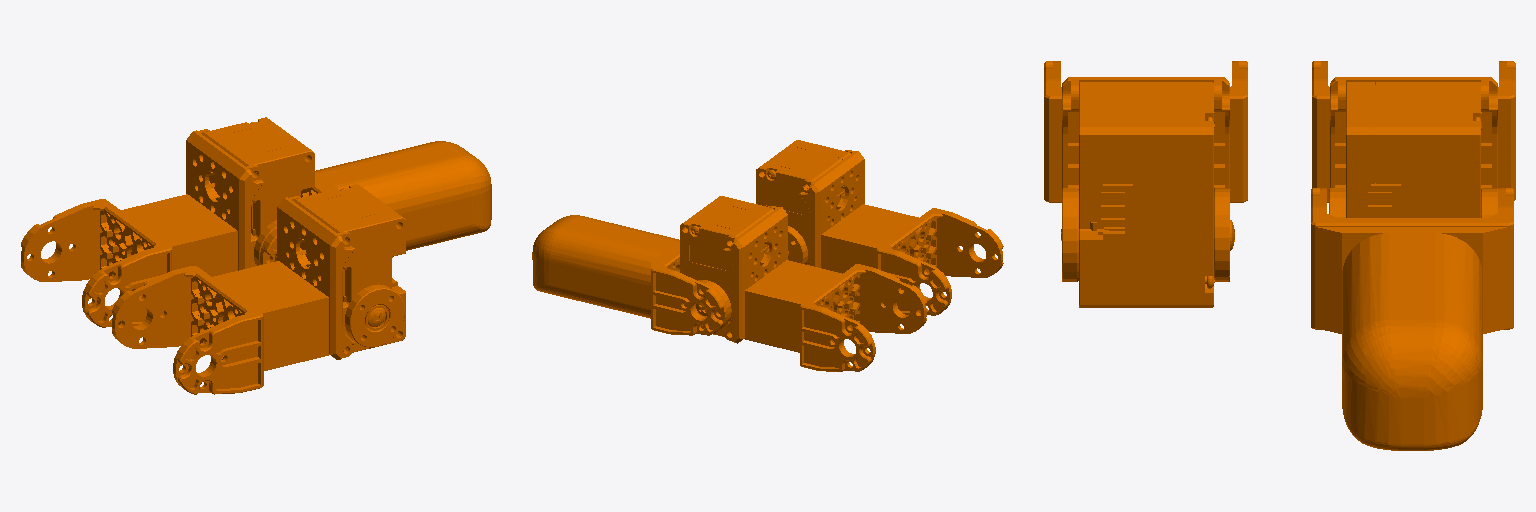
robot.urdf — onshape:
<robot name="onshape">
  <link name="palm_lower">
    <inertial>
      <origin xyz="0.0 0.0 0.0" rpy="0.0 -0.0 0.0"/>
      <mass value="0.237"/>
      <inertia ixx="0.000354094" ixy="-1.193e-06" ixz="-2.445e-06" iyy="0.000260915" iyz="-2.905e-06" izz="0.000529257"/>
    </inertial>
    <visual>
      <geometry>
        <mesh filename="../assets/leap/leap_hand/palm_lower.stl"/>
      </geometry>
      <origin xyz="-0.020095249652862544 0.025757756134899473 -0.034722403578460216" rpy="0.0 -0.0 0.0"/>
      <material name="palm_lower_material">
        <color rgba="0.6039215686274509 0.14901960784313725 0.14901960784313725 1.0"/>
      </material>
    </visual>
    <collision>
      <geometry>
        <mesh filename="../assets/leap/leap_hand/palm_lower.stl"/>
      </geometry>
      <origin xyz="-0.020095249652862544 0.025757756134899473 -0.034722403578460216" rpy="0.0 -0.0 0.0"/>
    </collision>
  </link>
  <link name="mcp_joint">
    <inertial>
      <origin xyz="0.0 0.0 0.0" rpy="0.0 -0.0 0.0"/>
      <mass value="0.044"/>
      <inertia ixx="1.1499e-05" ixy="3.049e-06" ixz="1.21e-07" iyy="7.796e-06" iyz="1.12e-07" izz="1.4759e-05"/>
    </inertial>
    <visual>
      <geometry>
        <mesh filename="../assets/leap/leap_hand/mcp_joint.stl"/>
      </geometry>
      <origin xyz="0.008406902261174496 0.0077662438597169954 0.014657354985032912" rpy="1.6375789613221e-15 -1.021047330249102e-30 1.7177968783327987e-31"/>
      <material name="mcp_joint_material">
        <color rgba="0.8666666666666667 0.8666666666666667 0.050980392156862744 1.0"/>
      </material>
    </visual>
    <collision>
      <geometry>
        <mesh filename="../assets/leap/leap_hand/mcp_joint.stl"/>
      </geometry>
      <origin xyz="0.008406902261174496 0.0077662438597169954 0.014657354985032912" rpy="1.6375789613221e-15 -1.021047330249102e-30 1.7177968783327987e-31"/>
    </collision>
  </link>
  <link name="pip">
    <inertial>
      <origin xyz="0.0 0.0 0.0" rpy="0.0 -0.0 0.0"/>
      <mass value="0.032"/>
      <inertia ixx="4.798e-06" ixy="1.2e-08" ixz="4e-09" iyy="2.862e-06" iyz="1.1e-08" izz="4.234e-06"/>
    </inertial>
    <visual>
      <geometry>
        <mesh filename="../assets/leap/leap_hand/pip.stl"/>
      </geometry>
      <origin xyz="0.009643363092271328 0.0002999999999999895 0.0007840340104173765" rpy="-1.5707963267948966 -1.5707963267948963 0.0"/>
      <material name="pip_material">
        <color rgba="0.7490196078431373 0.7490196078431373 0.7490196078431373 1.0"/>
      </material>
    </visual>
    <collision>
      <geometry>
        <mesh filename="../assets/leap/leap_hand/pip.stl"/>
      </geometry>
      <origin xyz="0.009643363092271328 0.0002999999999999895 0.0007840340104173765" rpy="-1.5707963267948966 -1.5707963267948963 0.0"/>
    </collision>
  </link>
  <link name="dip_long">
    <inertial>
      <origin xyz="0.0 0.0 0.0" rpy="0.0 -0.0 0.0"/>
      <mass value="0.037"/>
      <inertia ixx="5.542e-06" ixy="-6.07e-07" ixz="-1.7e-08" iyy="5.727e-06" iyz="-2.3e-08" izz="6.682e-06"/>
    </inertial>
    <visual>
      <geometry>
        <mesh filename="custom_models/dip_long.stl"/>
      </geometry>
      <origin xyz="0.021133352895225003 -0.00843211914670488 0.00978508816209524" rpy="-3.141592653589793 4.507511124216441e-32 4.439548105392361e-32"/>
      <material name="dip_material">
        <color rgba="0.878 0.467 0.0 1.0"/>
      </material>
    </visual>
    <collision>
      <geometry>
        <mesh filename="custom_models/dip_long.stl"/>
      </geometry>
      <origin xyz="0.021133352895225003 -0.00843211914670488 0.00978508816209524" rpy="-3.141592653589793 4.507511124216441e-32 4.439548105392361e-32"/>
    </collision>
  </link>
  <link name="fingertip_long">
    <inertial>
      <origin xyz="0.0 0.0 0.0" rpy="0.0 -0.0 0.0"/>
      <mass value="0.016"/>
      <inertia ixx="3.368e-06" ixy="1.15e-07" ixz="0.0" iyy="1.556e-06" iyz="0.0" izz="2.863e-06"/>
    </inertial>
    <visual>
      <geometry>
        <mesh filename="custom_models/fingertip_long.stl"/>
      </geometry>
      <origin xyz="0.013286424108533503 -0.006114238386541987 0.014499999999999498" rpy="3.141592653589793 1.1993117970061735e-33 4.439548105392361e-32"/>
      <material name="fingertip_material">
        <color rgba="0.878 0.467 0.0 1.0"/>
      </material>
    </visual>
    <collision>
      <geometry>
        <mesh filename="custom_models/fingertip_long.stl"/>
      </geometry>
      <origin xyz="0.013286424108533503 -0.006114238386541987 0.014499999999999498" rpy="3.141592653589793 1.1993117970061735e-33 4.439548105392361e-32"/>
    </collision>
  </link>
  <link name="pip_4">
    <inertial>
      <origin xyz="0.0 0.0 0.0" rpy="0.0 -0.0 0.0"/>
      <mass value="0.032"/>
      <inertia ixx="4.798e-06" ixy="1.2e-08" ixz="4e-09" iyy="2.862e-06" iyz="1.1e-08" izz="4.234e-06"/>
    </inertial>
    <visual>
      <geometry>
        <mesh filename="../assets/leap/leap_hand/pip.stl"/>
      </geometry>
      <origin xyz="-0.005356636907728671 0.0002999999999999999 0.0007840340104173782" rpy="-1.5707963267948966 -1.5707963267948963 0.0"/>
      <material name="pip_material">
        <color rgba="0.7490196078431373 0.7490196078431373 0.7490196078431373 1.0"/>
      </material>
    </visual>
    <collision>
      <geometry>
        <mesh filename="../assets/leap/leap_hand/pip.stl"/>
      </geometry>
      <origin xyz="-0.005356636907728671 0.0002999999999999999 0.0007840340104173782" rpy="-1.5707963267948966 -1.5707963267948963 0.0"/>
    </collision>
  </link>
  <link name="thumb_pip">
    <inertial>
      <origin xyz="0.0 0.0 0.0" rpy="0.0 -0.0 0.0"/>
      <mass value="0.003"/>
      <inertia ixx="5.93e-07" ixy="0.0" ixz="0.0" iyy="5.49e-07" iyz="0.0" izz="2.24e-07"/>
    </inertial>
    <visual>
      <geometry>
        <mesh filename="../assets/leap/leap_hand/thumb_pip.stl"/>
      </geometry>
      <origin xyz="0.011961920770611187 -5.30825383648903e-16 -0.0158526489566642" rpy="1.5707963267948966 1.6050198443300153e-46 -3.9204996250525193e-59"/>
      <material name="thumb_pip_material">
        <color rgba="0.8666666666666667 0.8666666666666667 0.050980392156862744 1.0"/>
      </material>
    </visual>
    <collision>
      <geometry>
        <mesh filename="../assets/leap/leap_hand/thumb_pip.stl"/>
      </geometry>
      <origin xyz="0.011961920770611187 -5.30825383648903e-16 -0.0158526489566642" rpy="1.5707963267948966 1.6050198443300153e-46 -3.9204996250525193e-59"/>
    </collision>
  </link>
  <link name="thumb_dip">
    <inertial>
      <origin xyz="0.0 0.0 0.0" rpy="0.0 -0.0 0.0"/>
      <mass value="0.038"/>
      <inertia ixx="8.474e-06" ixy="2.41e-07" ixz="2.6e-08" iyy="3.841e-06" iyz="2.5e-08" izz="7.679e-06"/>
    </inertial>
    <visual>
      <geometry>
        <mesh filename="../assets/leap/leap_hand/thumb_dip.stl"/>
      </geometry>
      <origin xyz="0.043968715707239175 0.0579529529737092 -0.008628676449369476" rpy="1.94289029309401e-16 3.27515792264422e-15 1.112375852965736e-46"/>
      <material name="thumb_dip_material">
        <color rgba="0.8666666666666667 0.8666666666666667 0.050980392156862744 1.0"/>
      </material>
    </visual>
    <collision>
      <geometry>
        <mesh filename="../assets/leap/leap_hand/thumb_dip.stl"/>
      </geometry>
      <origin xyz="0.043968715707239175 0.0579529529737092 -0.008628676449369476" rpy="1.94289029309401e-16 3.27515792264422e-15 1.112375852965736e-46"/>
    </collision>
  </link>
  <link name="thumb_fingertip">
    <inertial>
      <origin xyz="0.0 0.0 0.0" rpy="0.0 -0.0 0.0"/>
      <mass value="0.049"/>
      <inertia ixx="2.0372e-05" ixy="-4.89e-07" ixz="-3e-08" iyy="4.336e-06" iyz="-9.7e-08" izz="1.9845e-05"/>
    </inertial>
    <visual>
      <geometry>
        <mesh filename="../assets/leap/leap_hand/thumb_fingertip.stl"/>
      </geometry>
      <origin xyz="0.06255953846266739 0.07845968291139699 0.048992911807332215" rpy="4.379057701015637e-47 -3.33066907387547e-16 1.2042408677791935e-46"/>
      <material name="thumb_fingertip_material">
        <color rgba="0.6039215686274509 0.14901960784313725 0.14901960784313725 1.0"/>
      </material>
    </visual>
    <collision>
      <geometry>
        <mesh filename="../assets/leap/leap_hand/thumb_fingertip.stl"/>
      </geometry>
      <origin xyz="0.06255953846266739 0.07845968291139699 0.048992911807332215" rpy="4.379057701015637e-47 -3.33066907387547e-16 1.2042408677791935e-46"/>
    </collision>
  </link>
  <link name="mcp_joint_2">
    <inertial>
      <origin xyz="0.0 0.0 0.0" rpy="0.0 -0.0 0.0"/>
      <mass value="0.044"/>
      <inertia ixx="1.1499e-05" ixy="3.049e-06" ixz="1.21e-07" iyy="7.796e-06" iyz="1.12e-07" izz="1.4759e-05"/>
    </inertial>
    <visual>
      <geometry>
        <mesh filename="../assets/leap/leap_hand/mcp_joint.stl"/>
      </geometry>
      <origin xyz="0.008406902261174496 0.0077662438597169954 0.014657354985032914" rpy="1.6375789613221e-15 -1.0076465469034e-30 2.1209300131419907e-61"/>
      <material name="mcp_joint_material">
        <color rgba="0.8666666666666667 0.8666666666666667 0.050980392156862744 1.0"/>
      </material>
    </visual>
    <collision>
      <geometry>
        <mesh filename="../assets/leap/leap_hand/mcp_joint.stl"/>
      </geometry>
      <origin xyz="0.008406902261174496 0.0077662438597169954 0.014657354985032914" rpy="1.6375789613221e-15 -1.0076465469034e-30 2.1209300131419907e-61"/>
    </collision>
  </link>
  <link name="pip_2">
    <inertial>
      <origin xyz="0.0 0.0 0.0" rpy="0.0 -0.0 0.0"/>
      <mass value="0.032"/>
      <inertia ixx="4.798e-06" ixy="1.2e-08" ixz="4e-09" iyy="2.862e-06" iyz="1.1e-08" izz="4.234e-06"/>
    </inertial>
    <visual>
      <geometry>
        <mesh filename="../assets/leap/leap_hand/pip.stl"/>
      </geometry>
      <origin xyz="0.009643363092271328 0.0002999999999999947 0.0007840340104173765" rpy="-1.5707963267948966 -1.5707963267948963 0.0"/>
      <material name="pip_material">
        <color rgba="0.7490196078431373 0.7490196078431373 0.7490196078431373 1.0"/>
      </material>
    </visual>
    <collision>
      <geometry>
        <mesh filename="../assets/leap/leap_hand/pip.stl"/>
      </geometry>
      <origin xyz="0.009643363092271328 0.0002999999999999947 0.0007840340104173765" rpy="-1.5707963267948966 -1.5707963267948963 0.0"/>
    </collision>
  </link>
  <link name="dip_2_long">
    <inertial>
      <origin xyz="0.0 0.0 0.0" rpy="0.0 -0.0 0.0"/>
      <mass value="0.037"/>
      <inertia ixx="5.542e-06" ixy="-6.07e-07" ixz="-1.7e-08" iyy="5.727e-06" iyz="-2.3e-08" izz="6.682e-06"/>
    </inertial>
    <visual>
      <geometry>
        <mesh filename="custom_models/dip_long.stl"/>
      </geometry>
      <origin xyz="0.021133352895225003 -0.008432119146704865 0.009785088162095237" rpy="-3.141592653589793 2.1146933785271956e-32 1.4408183216511869e-31"/>
      <material name="dip_material">
        <color rgba="0.878 0.467 0.0 1.0"/>
      </material>
    </visual>
    <collision>
      <geometry>
        <mesh filename="custom_models/dip_long.stl"/>
      </geometry>
      <origin xyz="0.021133352895225003 -0.008432119146704865 0.009785088162095237" rpy="-3.141592653589793 2.1146933785271956e-32 1.4408183216511869e-31"/>
    </collision>
  </link>
  <link name="fingertip_2">
    <inertial>
      <origin xyz="0.0 0.0 0.0" rpy="0.0 -0.0 0.0"/>
      <mass value="0.016"/>
      <inertia ixx="3.368e-06" ixy="1.15e-07" ixz="0.0" iyy="1.556e-06" iyz="0.0" izz="2.863e-06"/>
    </inertial>
    <visual>
      <geometry>
        <mesh filename="../assets/leap/leap_hand/fingertip.stl"/>
      </geometry>
      <origin xyz="0.013286424108533496 -0.006114238386542001 0.014499999999999496" rpy="3.141592653589793 -4.317959788283594e-33 1.4408183216511869e-31"/>
      <material name="fingertip_material">
        <color rgba="0.8666666666666667 0.8666666666666667 0.050980392156862744 1.0"/>
      </material>
    </visual>
    <collision>
      <geometry>
        <mesh filename="../assets/leap/leap_hand/fingertip.stl"/>
      </geometry>
      <origin xyz="0.013286424108533496 -0.006114238386542001 0.014499999999999496" rpy="3.141592653589793 -4.317959788283594e-33 1.4408183216511869e-31"/>
    </collision>
  </link>
  <link name="mcp_joint_3">
    <inertial>
      <origin xyz="0.0 0.0 0.0" rpy="0.0 -0.0 0.0"/>
      <mass value="0.044"/>
      <inertia ixx="1.1499e-05" ixy="3.049e-06" ixz="1.21e-07" iyy="7.796e-06" iyz="1.12e-07" izz="1.4759e-05"/>
    </inertial>
    <visual>
      <geometry>
        <mesh filename="../assets/leap/leap_hand/mcp_joint.stl"/>
      </geometry>
      <origin xyz="0.0084069022611745 0.007766243859716996 0.014657354985032914" rpy="1.6375789613221e-15 -1.0059504988632627e-30 5.729641584552035e-32"/>
      <material name="mcp_joint_material">
        <color rgba="0.8666666666666667 0.8666666666666667 0.050980392156862744 1.0"/>
      </material>
    </visual>
    <collision>
      <geometry>
        <mesh filename="../assets/leap/leap_hand/mcp_joint.stl"/>
      </geometry>
      <origin xyz="0.0084069022611745 0.007766243859716996 0.014657354985032914" rpy="1.6375789613221e-15 -1.0059504988632627e-30 5.729641584552035e-32"/>
    </collision>
  </link>
  <link name="pip_3">
    <inertial>
      <origin xyz="0.0 0.0 0.0" rpy="0.0 -0.0 0.0"/>
      <mass value="0.032"/>
      <inertia ixx="4.798e-06" ixy="1.2e-08" ixz="4e-09" iyy="2.862e-06" iyz="1.1e-08" izz="4.234e-06"/>
    </inertial>
    <visual>
      <geometry>
        <mesh filename="../assets/leap/leap_hand/pip.stl"/>
      </geometry>
      <origin xyz="0.009643363092271331 0.00029999999999998084 0.0007840340104173765" rpy="-1.5707963267948966 -1.5707963267948963 0.0"/>
      <material name="pip_material">
        <color rgba="0.7490196078431373 0.7490196078431373 0.7490196078431373 1.0"/>
      </material>
    </visual>
    <collision>
      <geometry>
        <mesh filename="../assets/leap/leap_hand/pip.stl"/>
      </geometry>
      <origin xyz="0.009643363092271331 0.00029999999999998084 0.0007840340104173765" rpy="-1.5707963267948966 -1.5707963267948963 0.0"/>
    </collision>
  </link>
  <link name="dip_3">
    <inertial>
      <origin xyz="0.0 0.0 0.0" rpy="0.0 -0.0 0.0"/>
      <mass value="0.037"/>
      <inertia ixx="5.542e-06" ixy="-6.07e-07" ixz="-1.7e-08" iyy="5.727e-06" iyz="-2.3e-08" izz="6.682e-06"/>
    </inertial>
    <visual>
      <geometry>
        <mesh filename="../assets/leap/leap_hand/dip.stl"/>
      </geometry>
      <origin xyz="0.021133352895225006 -0.008432119146704865 0.009785088162095237" rpy="-3.141592653589793 -1.4095651113919093e-33 1.5565411607615035e-32"/>
      <material name="dip_material">
        <color rgba="0.8666666666666667 0.8666666666666667 0.050980392156862744 1.0"/>
      </material>
    </visual>
    <collision>
      <geometry>
        <mesh filename="../assets/leap/leap_hand/dip.stl"/>
      </geometry>
      <origin xyz="0.021133352895225006 -0.008432119146704865 0.009785088162095237" rpy="-3.141592653589793 -1.4095651113919093e-33 1.5565411607615035e-32"/>
    </collision>
  </link>
  <link name="fingertip_3">
    <inertial>
      <origin xyz="0.0 0.0 0.0" rpy="0.0 -0.0 0.0"/>
      <mass value="0.016"/>
      <inertia ixx="3.368e-06" ixy="1.15e-07" ixz="0.0" iyy="1.556e-06" iyz="0.0" izz="2.863e-06"/>
    </inertial>
    <visual>
      <geometry>
        <mesh filename="../assets/leap/leap_hand/fingertip.stl"/>
      </geometry>
      <origin xyz="0.013286424108533501 -0.006114238386541987 0.0144999999999995" rpy="3.141592653589793 8.61707169505754e-33 1.5565411607615035e-32"/>
      <material name="fingertip_material">
        <color rgba="0.8666666666666667 0.8666666666666667 0.050980392156862744 1.0"/>
      </material>
    </visual>
    <collision>
      <geometry>
        <mesh filename="../assets/leap/leap_hand/fingertip.stl"/>
      </geometry>
      <origin xyz="0.013286424108533501 -0.006114238386541987 0.0144999999999995" rpy="3.141592653589793 8.61707169505754e-33 1.5565411607615035e-32"/>
    </collision>
  </link>
  <joint name="1" type="revolute">
    <parent link="palm_lower"/>
    <child link="mcp_joint"/>
    <origin xyz="-0.007095249652862546 0.023057756134899472 -0.01872240357846022" rpy="1.570796326794895 1.5707963267948946 0.0"/>
    <axis xyz="0.0 0.0 -1.0"/>
    <limit effort="0.95" velocity="8.48" lower="-0.314" upper="2.23"/>
  </joint>
  <joint name="0" type="revolute">
    <parent link="mcp_joint"/>
    <child link="pip"/>
    <origin xyz="-0.012200000000000008 0.038099999999999995 0.0145" rpy="-1.5707963267948966 -1.0065212660796337e-15 1.5707963267948943"/>
    <axis xyz="0.0 0.0 -1.0"/>
    <limit effort="0.95" velocity="8.48" lower="-1.047" upper="1.047"/>
  </joint>
  <joint name="2" type="revolute">
    <parent link="pip"/>
    <child link="dip_long"/>
    <origin xyz="0.014999999999999968 0.014299999999999905 -0.012999999999999824" rpy="1.570796326794896 -1.5707963267948963 0.0"/>
    <axis xyz="0.0 0.0 -1.0"/>
    <limit effort="0.95" velocity="8.48" lower="-0.506" upper="1.885"/>
  </joint>
  <joint name="3" type="revolute">
    <parent link="dip_long"/>
    <child link="fingertip_long"/>
    <origin xyz="-4.0880582495572692636e-09 -0.051100004210367367397 0.00020000000000007858714" rpy="4.5935029425113685e-17 -2.8730071914463795e-16 4.439548105392361e-32"/>
    <axis xyz="0.0 0.0 -1.0"/>
    <limit effort="0.95" velocity="8.48" lower="-0.366" upper="2.042"/>
  </joint>
  <joint name="12" type="revolute">
    <parent link="palm_lower"/>
    <child link="pip_4"/>
    <origin xyz="-0.06939524965286253 -0.0012422438651005258 -0.021622403578460216" rpy="-8.238176646493942e-17 1.5707963267948957 0.0"/>
    <axis xyz="0.0 0.0 -1.0"/>
    <limit effort="0.95" velocity="8.48" lower="-0.349" upper="2.094"/>
  </joint>
  <joint name="13" type="revolute">
    <parent link="pip_4"/>
    <child link="thumb_pip"/>
    <origin xyz="-2.7755575615628914e-17 0.014300000000000005 -0.013000000000000012" rpy="1.570796326794896 -1.5707963267948963 0.0"/>
    <axis xyz="0.0 0.0 -1.0"/>
    <limit effort="0.95" velocity="8.48" lower="-0.47" upper="2.443"/>
  </joint>
  <joint name="14" type="revolute">
    <parent link="thumb_pip"/>
    <child link="thumb_dip"/>
    <origin xyz="0.0 0.014499999999999966 -0.017000000000000053" rpy="-1.5707963267948966 1.6050198443300131e-46 -1.9721522630516625e-31"/>
    <axis xyz="0.0 0.0 -1.0"/>
    <limit effort="0.95" velocity="8.48" lower="-1.2" upper="1.9"/>
  </joint>
  <joint name="15" type="revolute">
    <parent link="thumb_dip"/>
    <child link="thumb_fingertip"/>
    <origin xyz="-1.249000902703301e-16 0.046599999999999864 0.0001999999999999771" rpy="1.506395849149178e-44 5.423418723393526e-31 3.141592653589793"/>
    <axis xyz="0.0 0.0 -1.0"/>
    <limit effort="0.95" velocity="8.48" lower="-1.34" upper="1.88"/>
  </joint>
  <joint name="5" type="revolute">
    <parent link="palm_lower"/>
    <child link="mcp_joint_2"/>
    <origin xyz="-0.007095249652862546 -0.022392243865100525 -0.01872240357846022" rpy="1.570796326794895 1.5707963267948946 0.0"/>
    <axis xyz="0.0 0.0 -1.0"/>
    <limit effort="0.95" velocity="8.48" lower="-0.314" upper="2.23"/>
  </joint>
  <joint name="4" type="revolute">
    <parent link="mcp_joint_2"/>
    <child link="pip_2"/>
    <origin xyz="-0.012200000000000008 0.038099999999999995 0.0145" rpy="-1.5707963267948966 -1.0065212660796337e-15 1.5707963267948943"/>
    <axis xyz="0.0 0.0 -1.0"/>
    <limit effort="0.95" velocity="8.48" lower="-1.047" upper="1.047"/>
  </joint>
  <joint name="6" type="revolute">
    <parent link="pip_2"/>
    <child link="dip_2_long"/>
    <origin xyz="0.014999999999999968 0.014299999999999905 -0.012999999999999824" rpy="1.570796326794896 -1.5707963267948963 0.0"/>
    <axis xyz="0.0 0.0 -1.0"/>
    <limit effort="0.95" velocity="8.48" lower="-0.506" upper="1.885"/>
  </joint>
  <joint name="7" type="revolute">
    <parent link="dip_2_long"/>
    <child link="fingertip_2"/>
    <origin xyz="-4.0880582495572692636e-09 -0.051100004210367367397 0.00020000000000007858714" rpy="4.5935029425113685e-17 -2.8730071914463795e-16 4.439548105392361e-32"/>
    <axis xyz="0.0 0.0 -1.0"/>
    <limit effort="0.95" velocity="8.48" lower="-0.366" upper="2.042"/>
  </joint>
  <joint name="9" type="revolute">
    <parent link="palm_lower"/>
    <child link="mcp_joint_3"/>
    <origin xyz="-0.007095249652862546 -0.06784224386510052 -0.01872240357846022" rpy="1.570796326794895 1.5707963267948946 0.0"/>
    <axis xyz="0.0 0.0 -1.0"/>
    <limit effort="0.95" velocity="8.48" lower="-0.314" upper="2.23"/>
  </joint>
  <joint name="8" type="revolute">
    <parent link="mcp_joint_3"/>
    <child link="pip_3"/>
    <origin xyz="-0.012200000000000008 0.038099999999999995 0.0145" rpy="-1.5707963267948966 -1.0065212660796337e-15 1.5707963267948943"/>
    <axis xyz="0.0 0.0 -1.0"/>
    <limit effort="0.95" velocity="8.48" lower="-1.047" upper="1.047"/>
  </joint>
  <joint name="10" type="revolute">
    <parent link="pip_3"/>
    <child link="dip_3"/>
    <origin xyz="0.014999999999999968 0.014299999999999905 -0.012999999999999824" rpy="1.570796326794896 -1.5707963267948963 0.0"/>
    <axis xyz="0.0 0.0 -1.0"/>
    <limit effort="0.95" velocity="8.48" lower="-0.506" upper="1.885"/>
  </joint>
  <joint name="11" type="revolute">
    <parent link="dip_3"/>
    <child link="fingertip_3"/>
    <origin xyz="-4.088058249557269e-09 -0.03610000421036737 0.0002000000000000786" rpy="4.5935029425113685e-17 -2.8730071914463795e-16 4.439548105392361e-32"/>
    <axis xyz="0.0 0.0 -1.0"/>
    <limit effort="0.95" velocity="8.48" lower="-0.366" upper="2.042"/>
  </joint>
</robot>

--- What the picture shows (computed from the rendered views, not written in the file) ---
The picture shows the robot from 3 angles, left to right: view 1: azimuth 30°, elevation 25°; view 2: azimuth 150°, elevation 25°; view 3: azimuth 270°, elevation 25°; orthographic projection.
Model onshape with 17 links and 16 joints (16 revolute), rooted at palm_lower, posed all joints at 0.
Visible links, largest first — view 1: dip_2_long, dip_long, fingertip_long; view 2: dip_long, dip_2_long, fingertip_long; view 3: dip_2_long, fingertip_long, dip_long.
Boxes of the visible links, box(x1,y1,x2,y2) form: dip_2_long: box(112, 184, 405, 394); dip_long: box(21, 117, 314, 327); fingertip_long: box(260, 141, 491, 264); dip_long: box(680, 196, 926, 371); dip_2_long: box(756, 140, 1003, 315); fingertip_long: box(532, 215, 764, 335); dip_2_long: box(1044, 61, 1247, 307); fingertip_long: box(1311, 188, 1513, 450); dip_long: box(1312, 61, 1515, 217).
Bounding box of the posed robot: 0.1235 × 0.08 × 0.0356 m (x, y, z).
Meshes: 10 distinct files referenced, 3 mesh visuals loaded (2 binary STL); not drawn: 14 (reference not matched to a file when rendering).